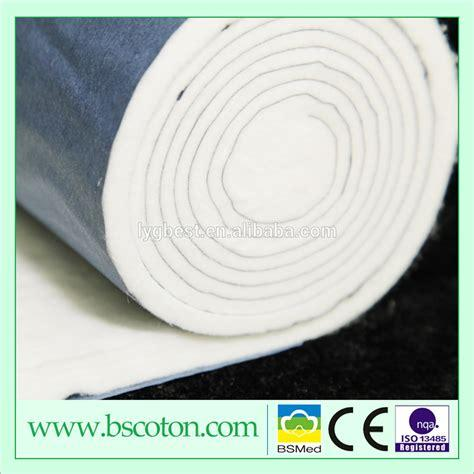gauze: (18, 19, 455, 386)
